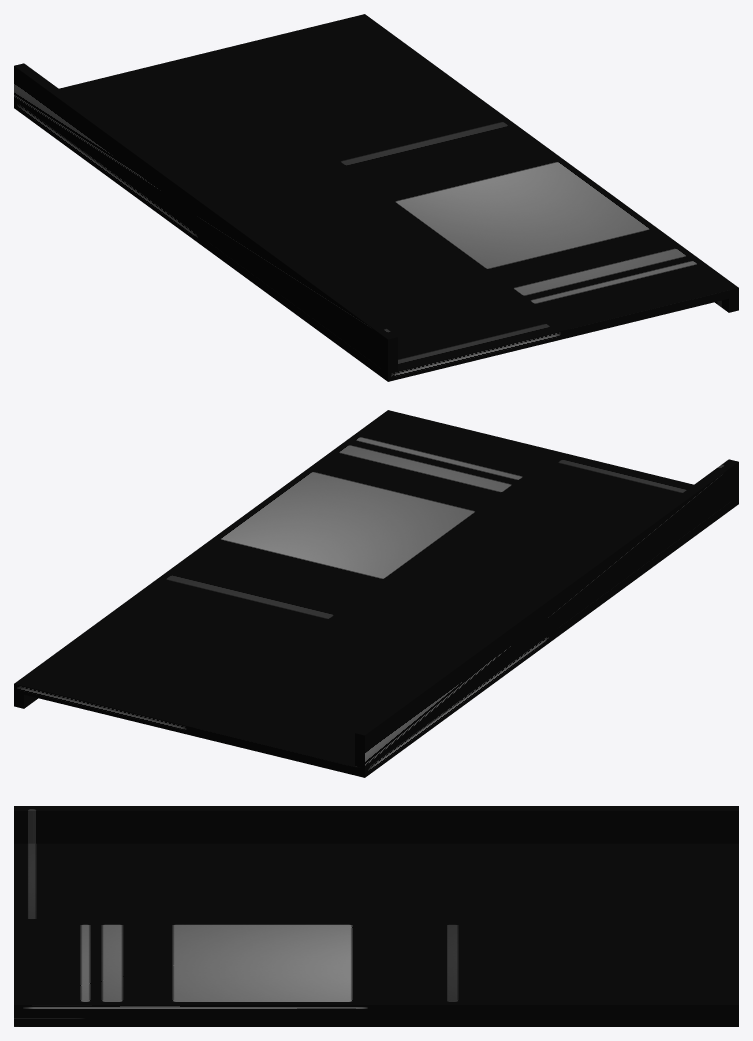
Rendered from CubiertaCiega.FBX.
3 views of the same model, one above another, from view 1: azimuth 30°, elevation 25°; view 2: azimuth 150°, elevation 25°; view 3: azimuth 270°, elevation 25° (orthographic). The views are drawn at different scales.
Visible parts, largest first — view 1: Cubierta Ciega; view 2: Cubierta Ciega; view 3: Cubierta Ciega.
Boxes of the visible parts, x1,y1,x2,y2 form: Cubierta Ciega: [14, 14, 738, 381]; Cubierta Ciega: [14, 410, 738, 777]; Cubierta Ciega: [14, 806, 738, 1026].
Bounding box in the file's own units: 6.5 × 1 × 12.
Materials: 1 (1 with a texture image).
